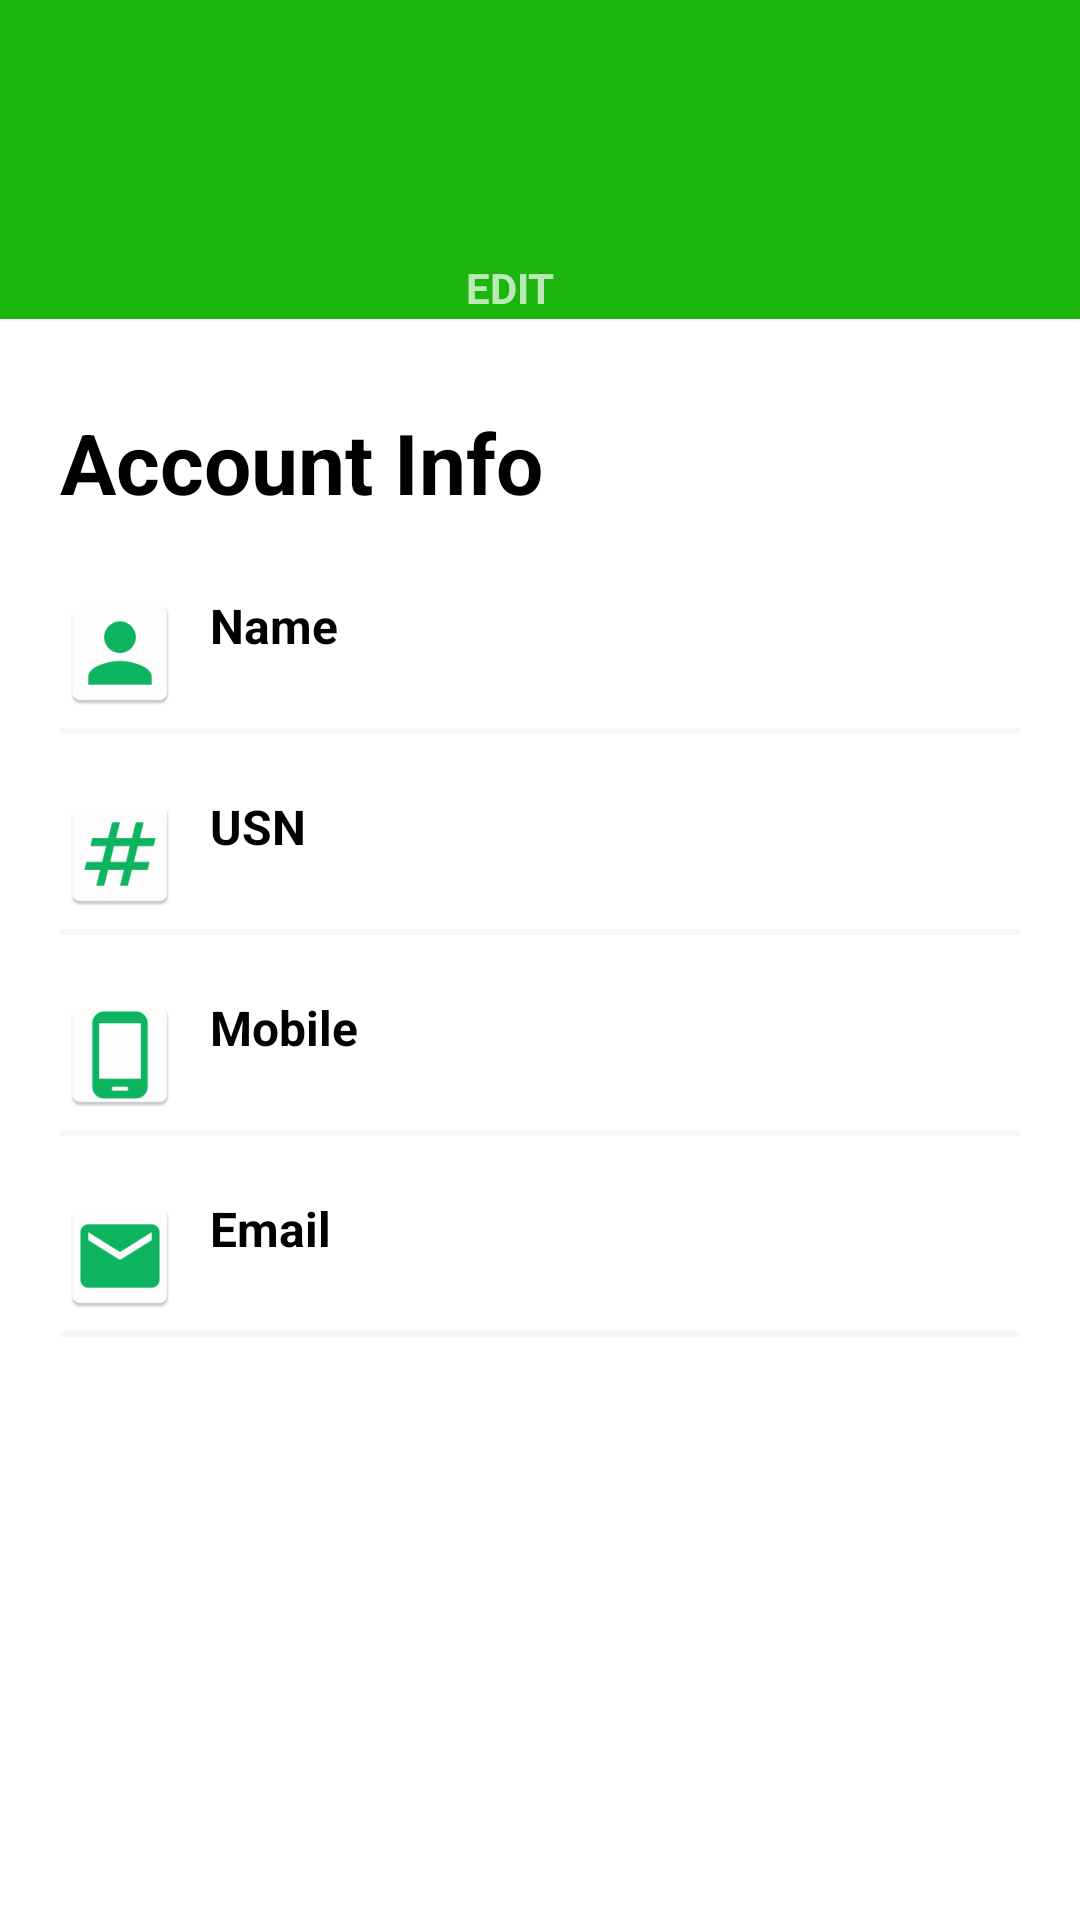

Screen size 1080x1920. Icon name, then its center in pixels as point (x, y):
phone: point (120, 1058)
